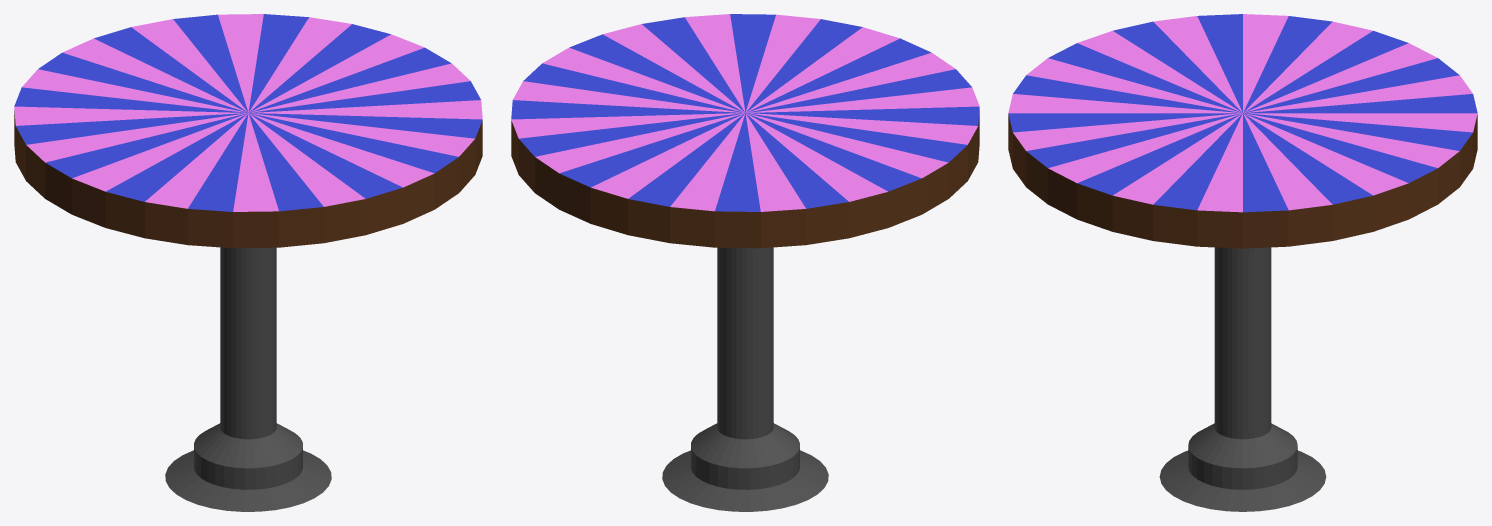
Rendered from BreakRoomTable.fbx.
3 views of the same model, side by side, from view 1: azimuth 30°, elevation 25°; view 2: azimuth 150°, elevation 25°; view 3: azimuth 270°, elevation 25° (orthographic).
Parts seen in each view (by area): view 1: BreakRoom Table; view 2: BreakRoom Table; view 3: BreakRoom Table.
Boxes of the visible parts, x1,y1,x2,y2 form: BreakRoom Table: (14, 14, 482, 511); BreakRoom Table: (511, 14, 979, 511); BreakRoom Table: (1008, 14, 1477, 511).
Bounding box in the file's own units: 472 × 403 × 472.
